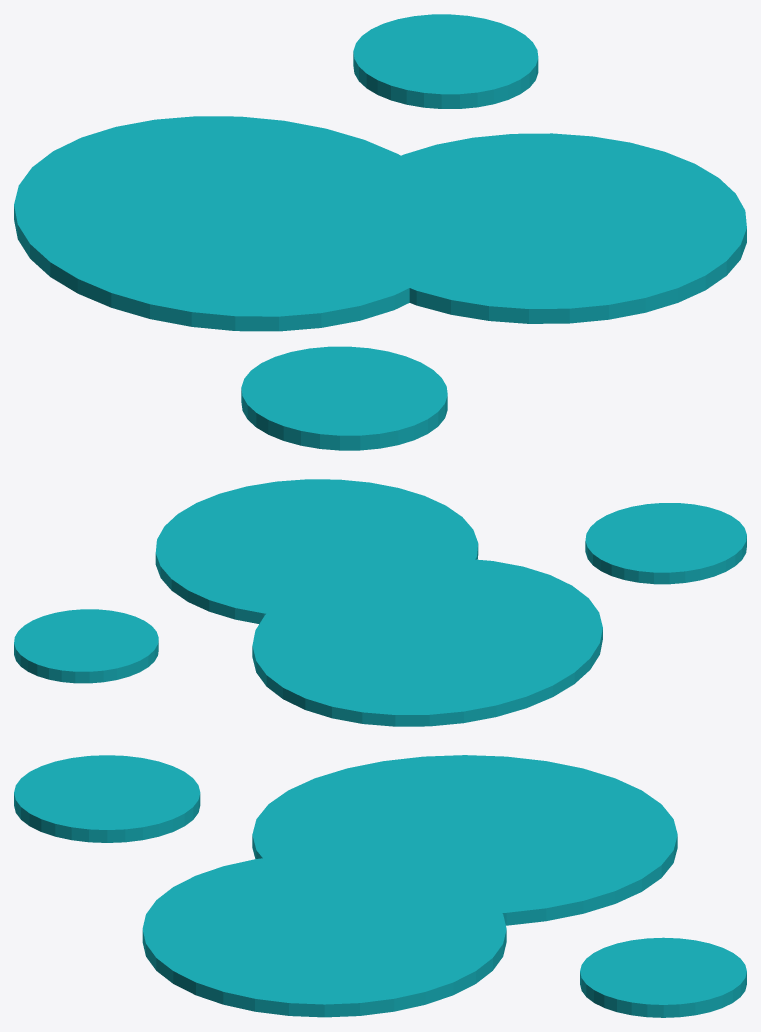
The model's file is paintsplat5.fbx.
The picture shows the model from 3 angles, top to bottom: view 1: azimuth 30°, elevation 25°; view 2: azimuth 150°, elevation 25°; view 3: azimuth 270°, elevation 25°; orthographic projection. The views are drawn at different scales.
Parts seen in each view (by area): view 1: Cylinder; view 2: Cylinder; view 3: Cylinder.
Part boxes in pixels (bbox=[...]): Cylinder: bbox=[14, 14, 746, 450]; Cylinder: bbox=[14, 479, 746, 726]; Cylinder: bbox=[14, 755, 746, 1017].
Size of the model in its own units: 81.24 by 1.96 by 101.
